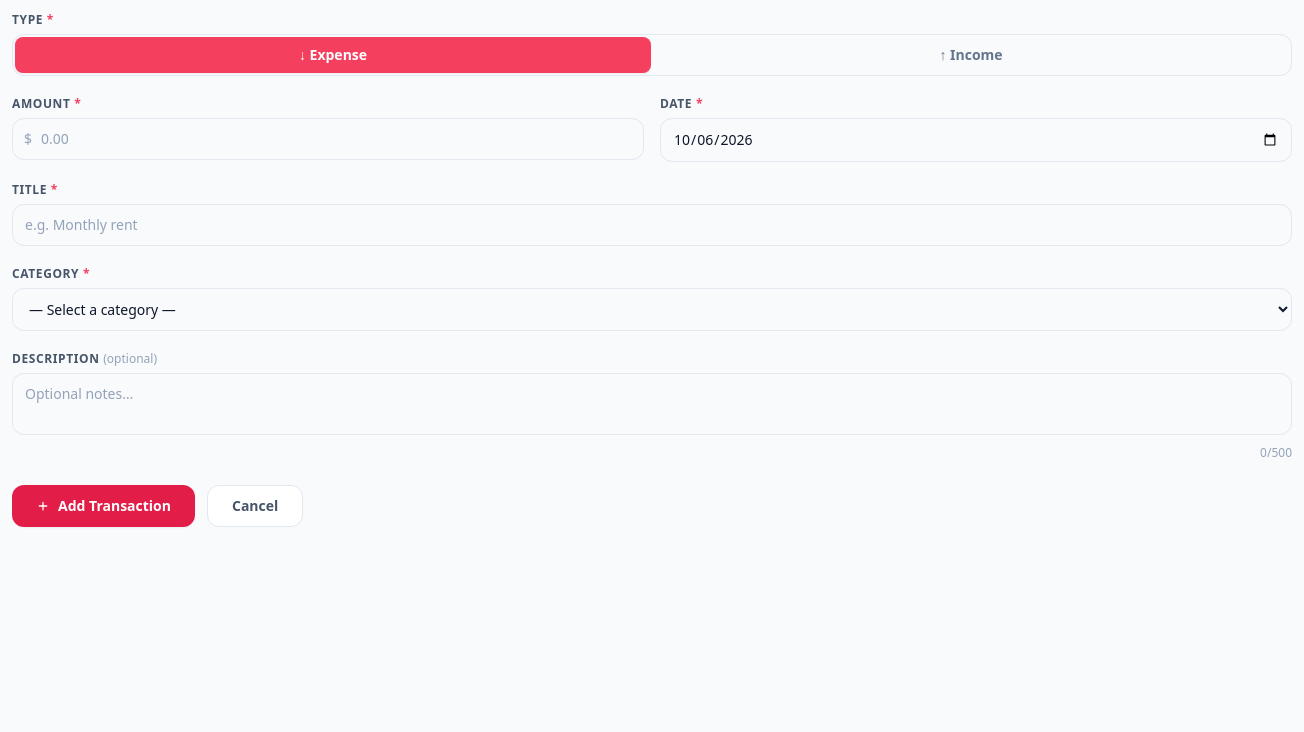
TransactionForm › displays validation errors › shows an error when amount is zero and form is submitted
Type "Test" into the field labelled "Title *" at (652, 225), box [12,204,1292,246]
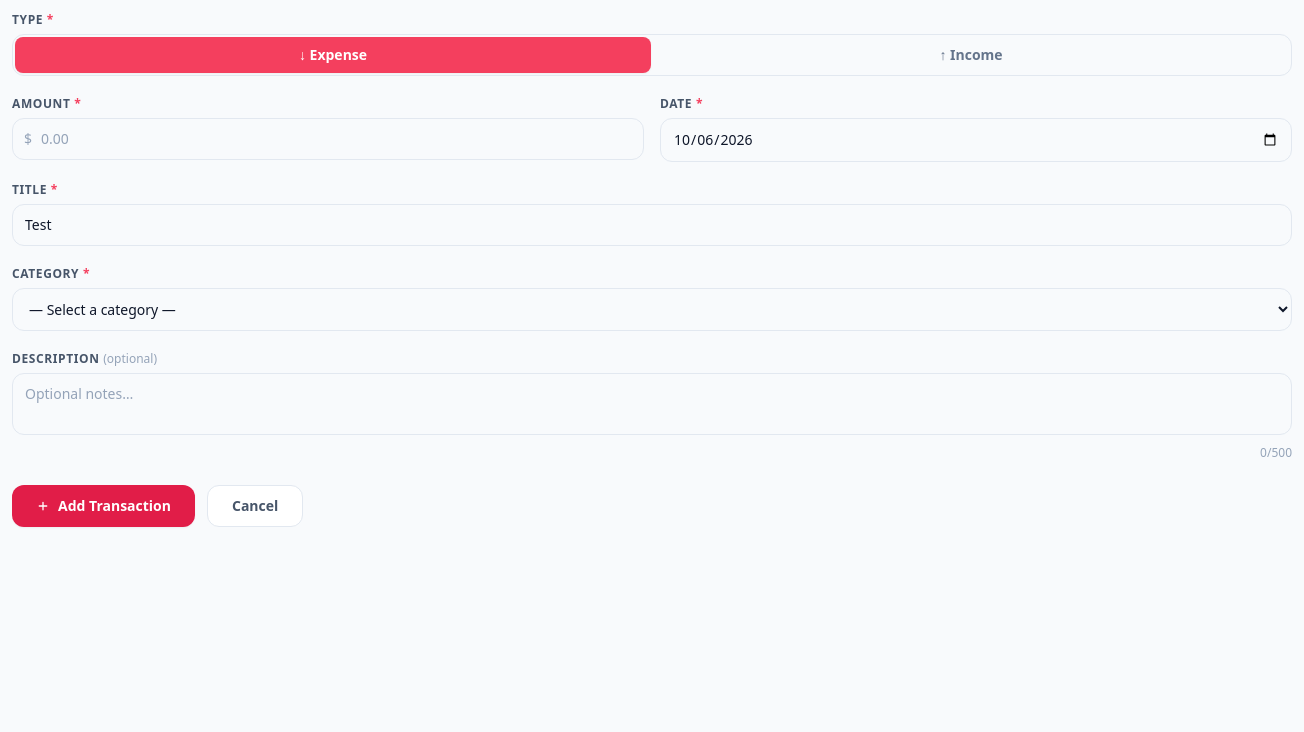
Type "0" into the number field labelled "Amount *" at (328, 139), box [12,118,644,160]
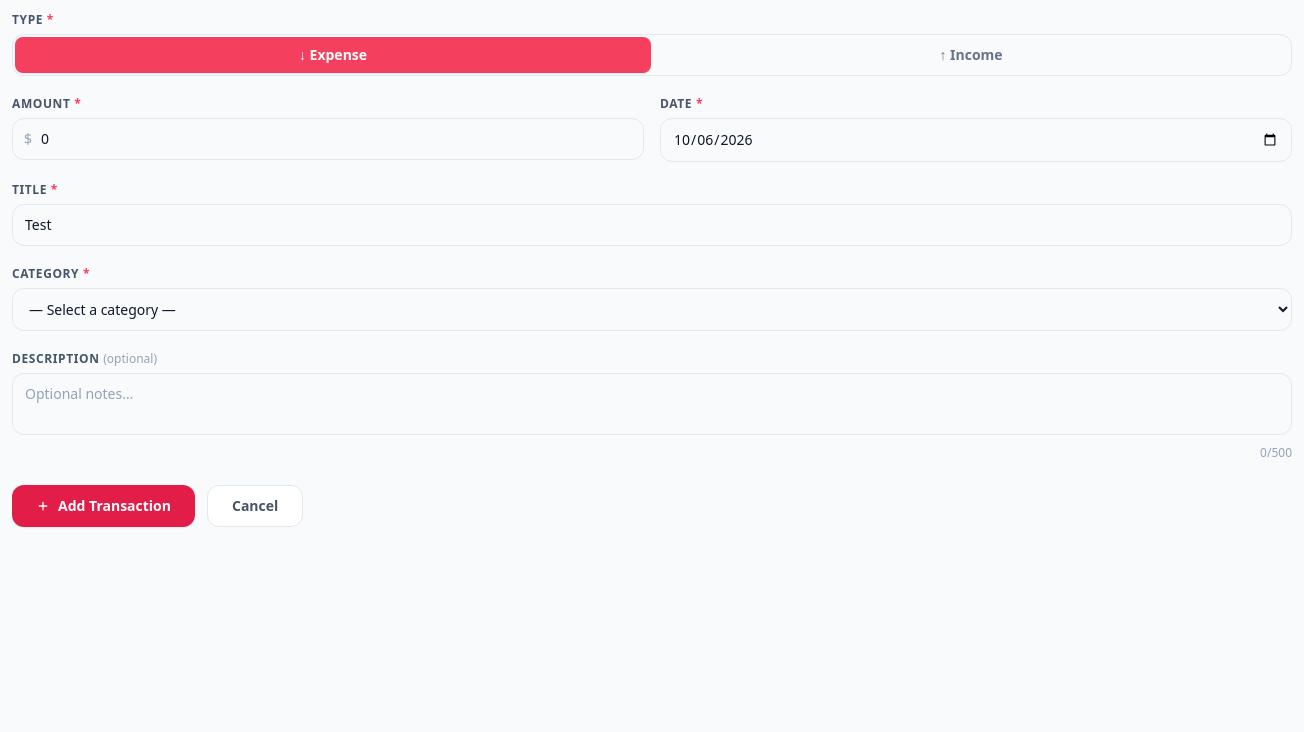
Submit the form
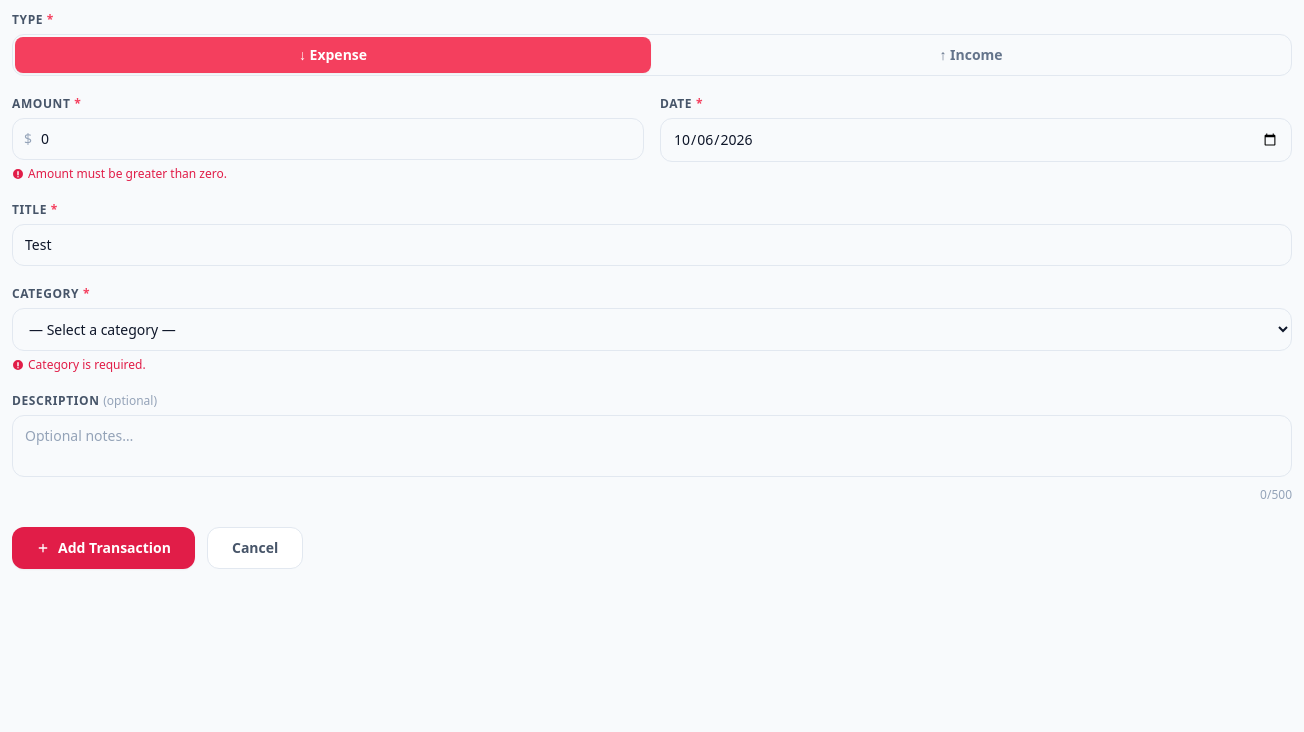
Expected: the text "Amount must be greater than zero." is shown, [12,165,227,182]
